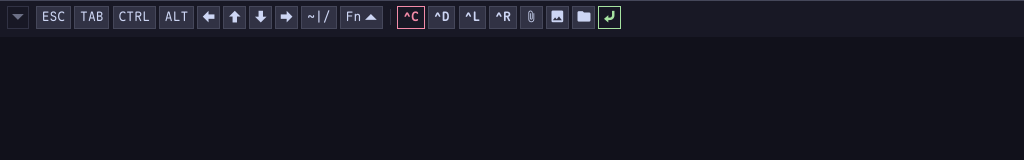
Test case: Touch key bar layout › points the Fn arrow at the drawer, which opens upwards
Click the button named "function keys" at coordinates (362, 17), box 340,6 -> 383,29
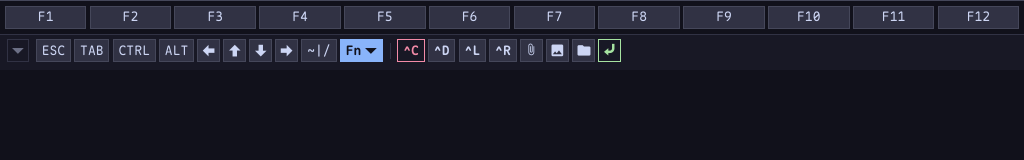
Check: the 7th button named "F7" is shown, box 514,6 -> 595,29
